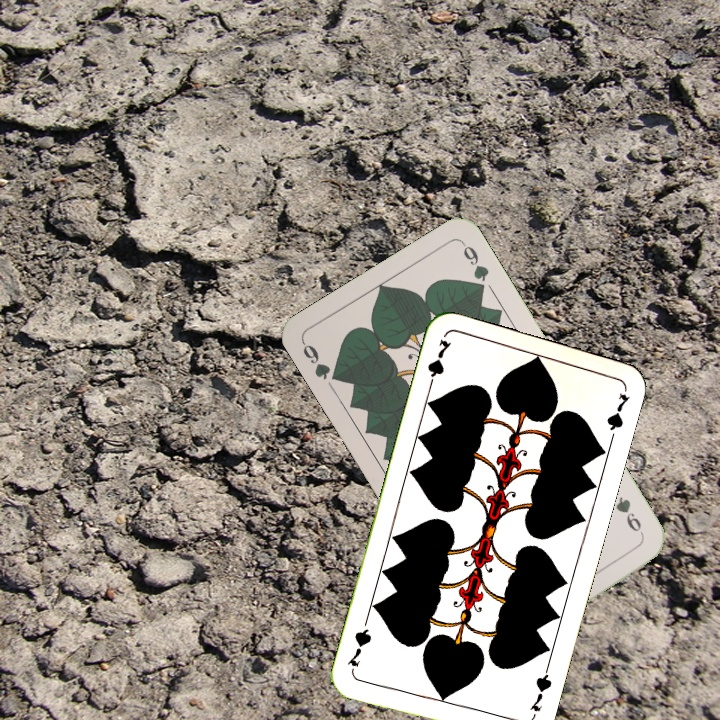G7: (423, 335, 454, 393), (526, 665, 555, 714)
G9: (298, 338, 345, 385), (603, 492, 647, 541)
